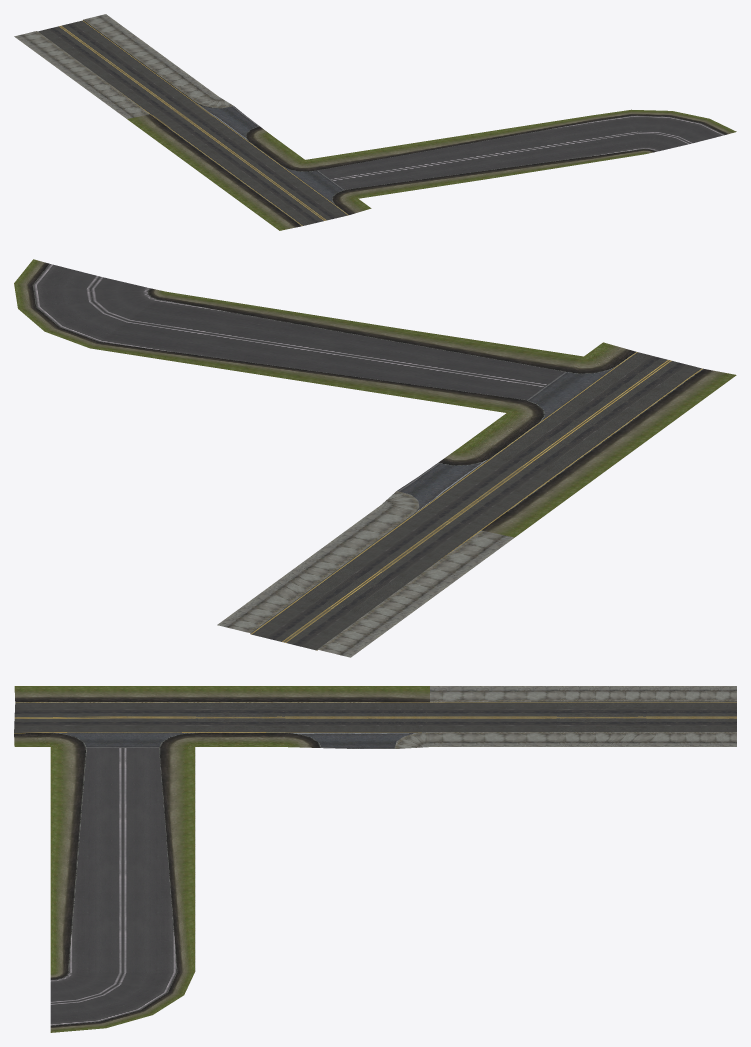
The model's file is cunte_roads79.obj.
3 renders of one model, top to bottom at view 1: azimuth 30°, elevation 25°; view 2: azimuth 150°, elevation 25°; view 3: azimuth 270°, elevation 25°, orthographic. The views are drawn at different scales.
Parts seen in each view (by area): view 1: cunte_roads79; view 2: cunte_roads79; view 3: cunte_roads79.
Boxes of the visible parts, x1,y1,x2,y2 form: cunte_roads79: [14, 14, 736, 230]; cunte_roads79: [14, 259, 736, 657]; cunte_roads79: [14, 686, 736, 1032].
Size of the model in its own units: 102 by 5.44 by 100.
